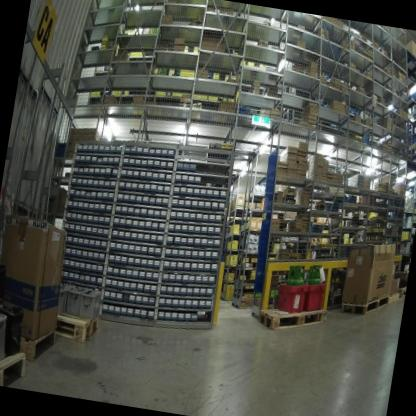pallet: (254, 292, 332, 343), (2, 317, 60, 368), (51, 302, 111, 351), (336, 284, 391, 322), (0, 343, 32, 388), (375, 283, 401, 315), (398, 278, 407, 300)
small_load_carrier: (299, 277, 329, 322), (276, 278, 307, 316)
